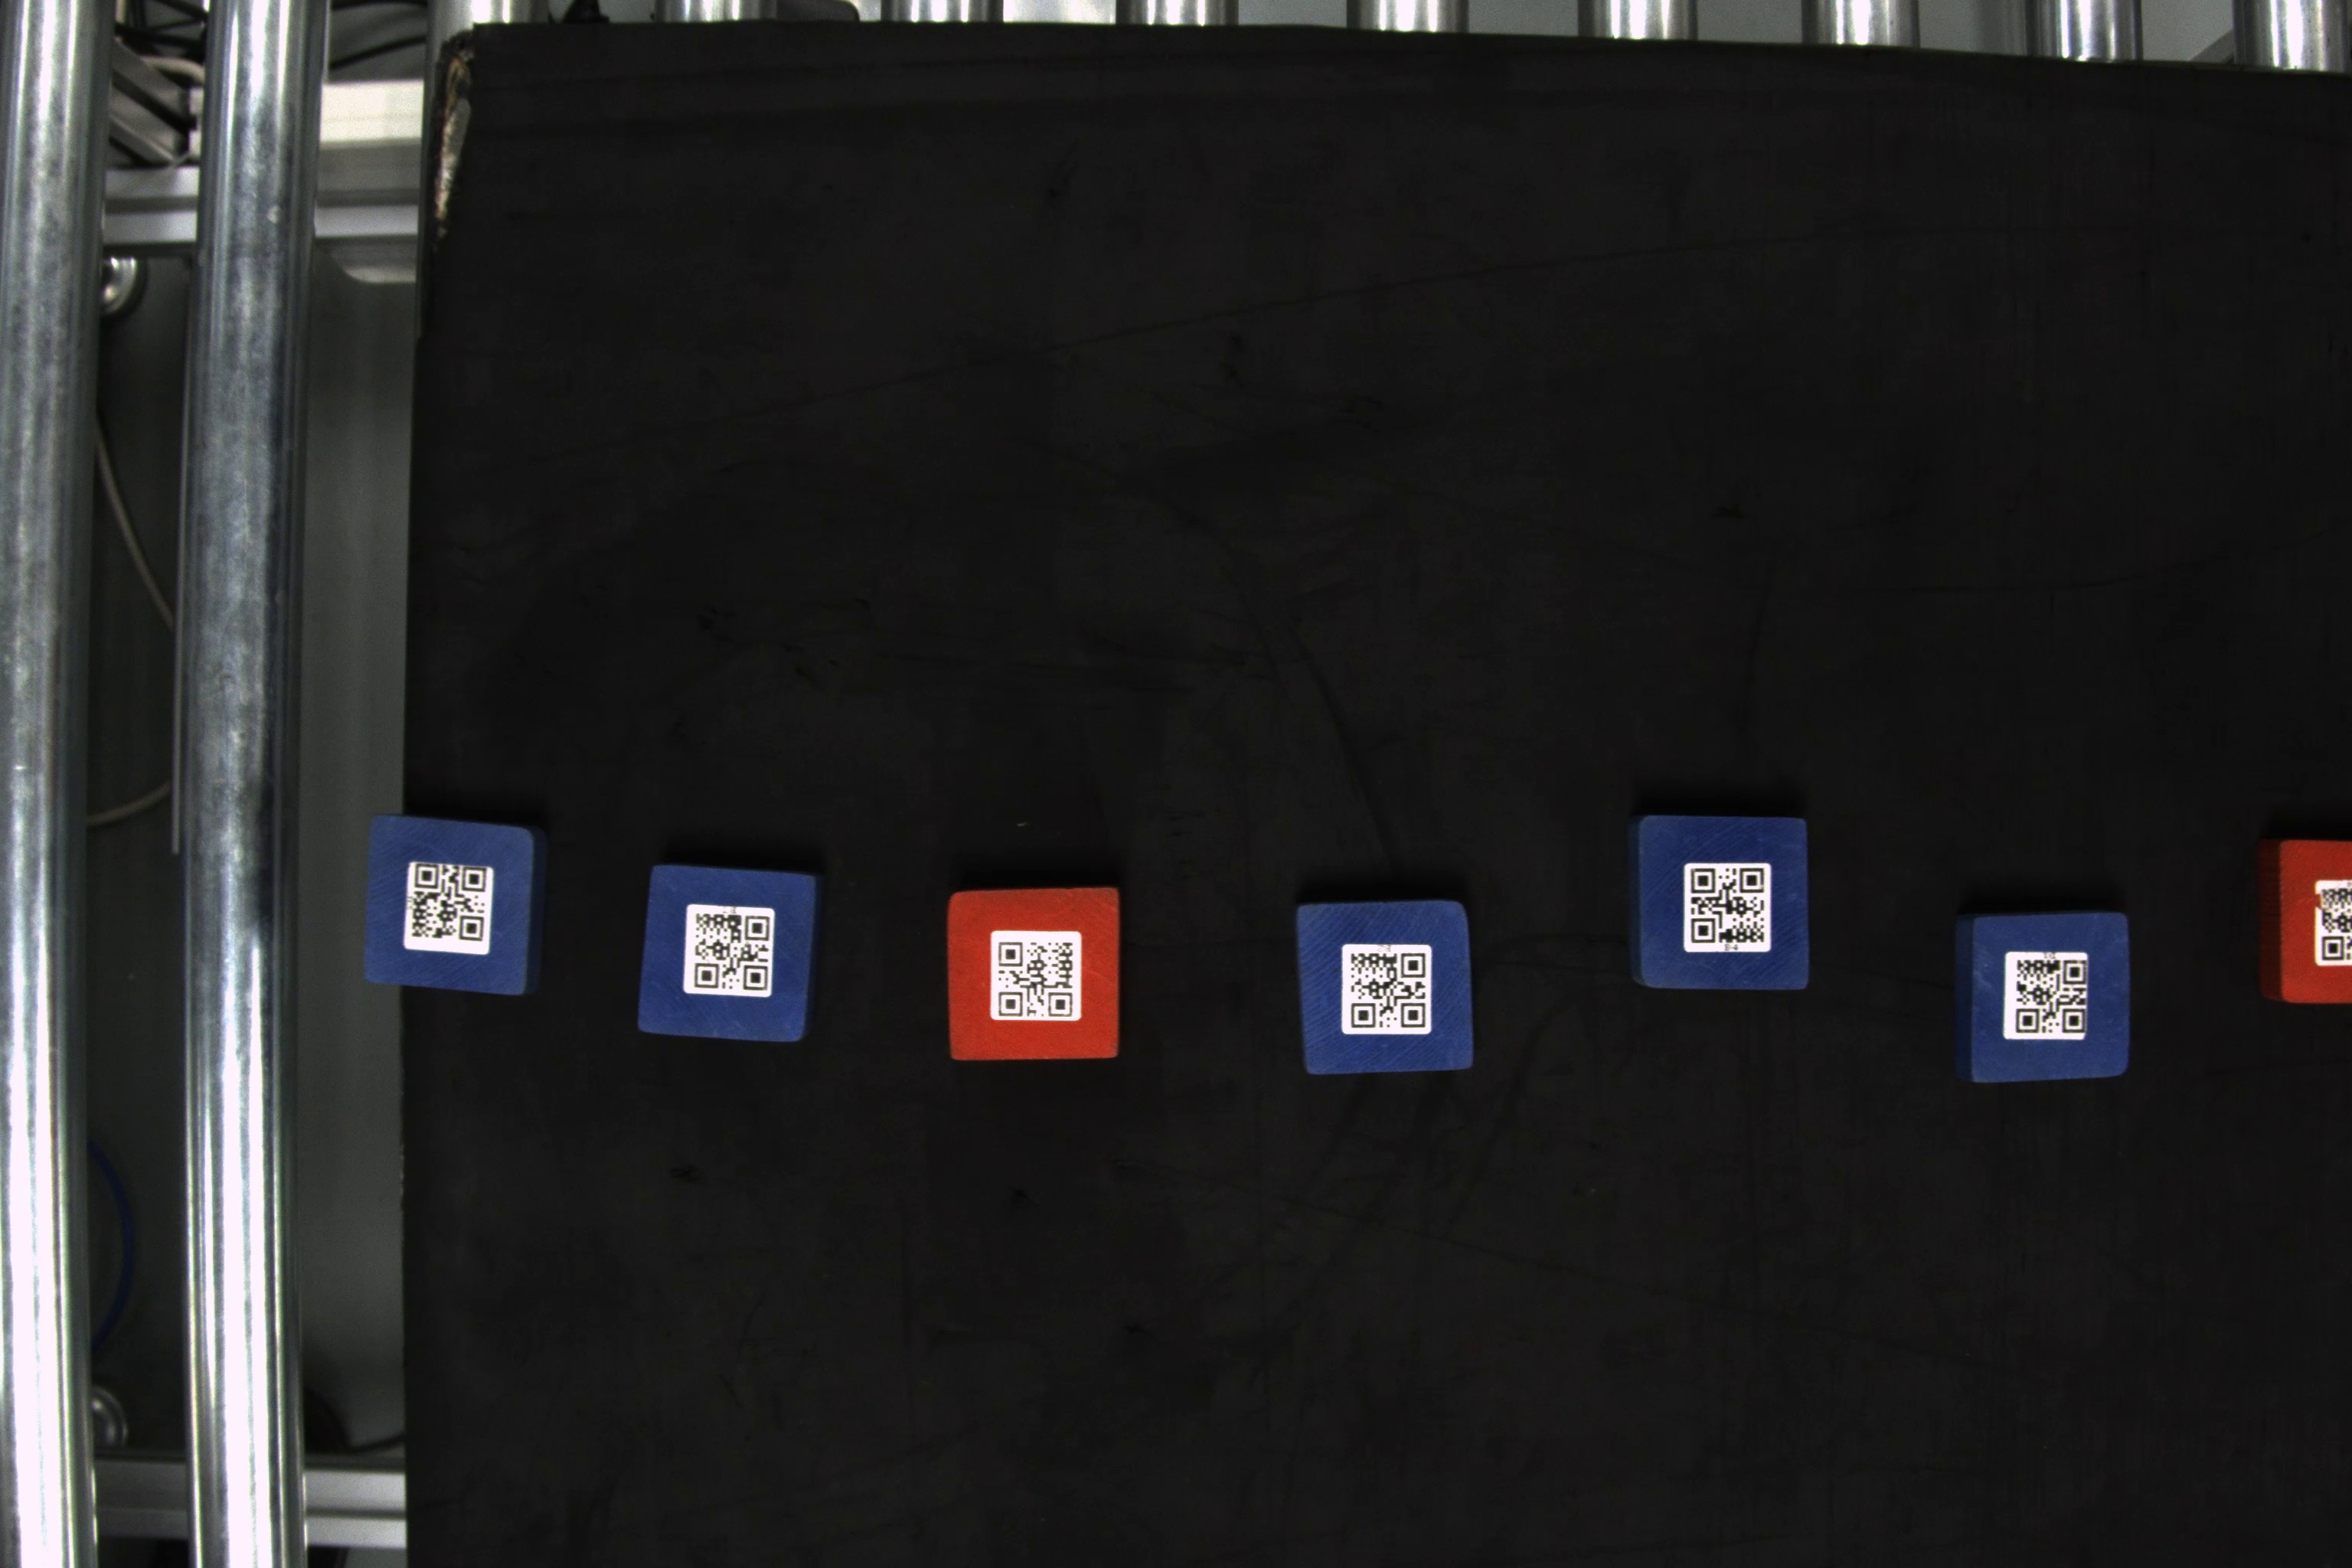wood: (632, 852, 828, 1048), (1283, 898, 1484, 1078), (360, 805, 541, 1003), (1944, 901, 2138, 1083), (1626, 814, 1815, 997), (938, 887, 1127, 1066), (2261, 833, 2352, 1011)
